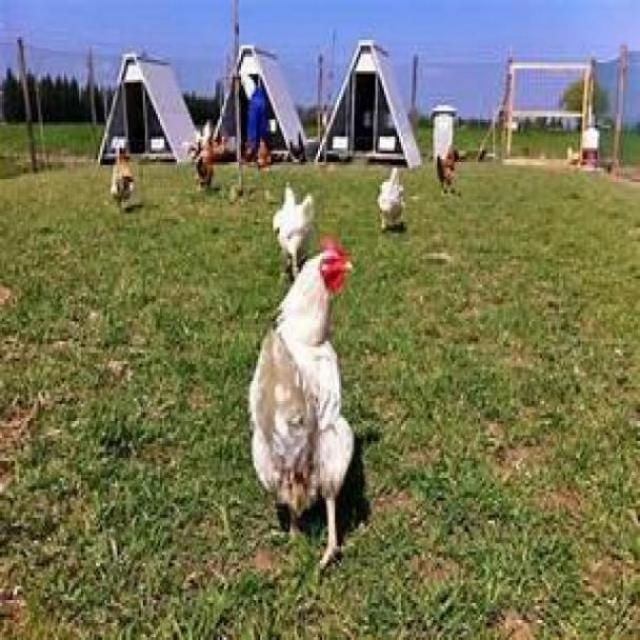Chicken: (248, 236, 357, 575), (273, 182, 316, 279), (376, 165, 408, 233), (111, 145, 134, 208), (197, 131, 216, 188), (435, 148, 457, 196), (288, 131, 305, 165), (258, 137, 273, 174)
